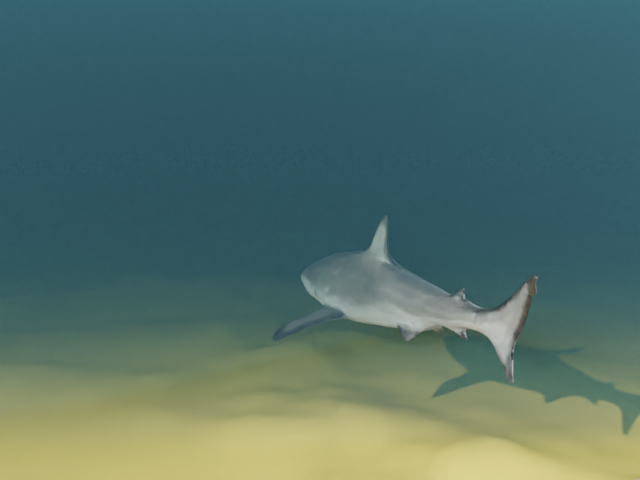Carribean Shark.001: (271, 215, 537, 383)
